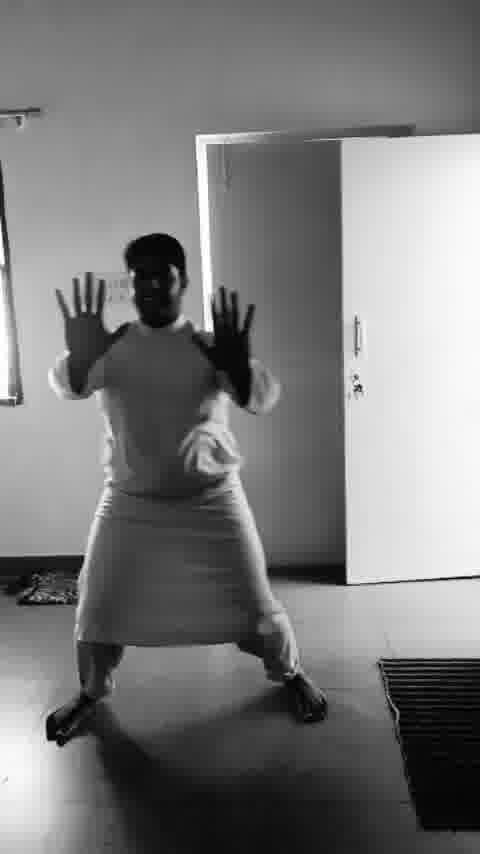duck: (52, 221, 331, 753)
